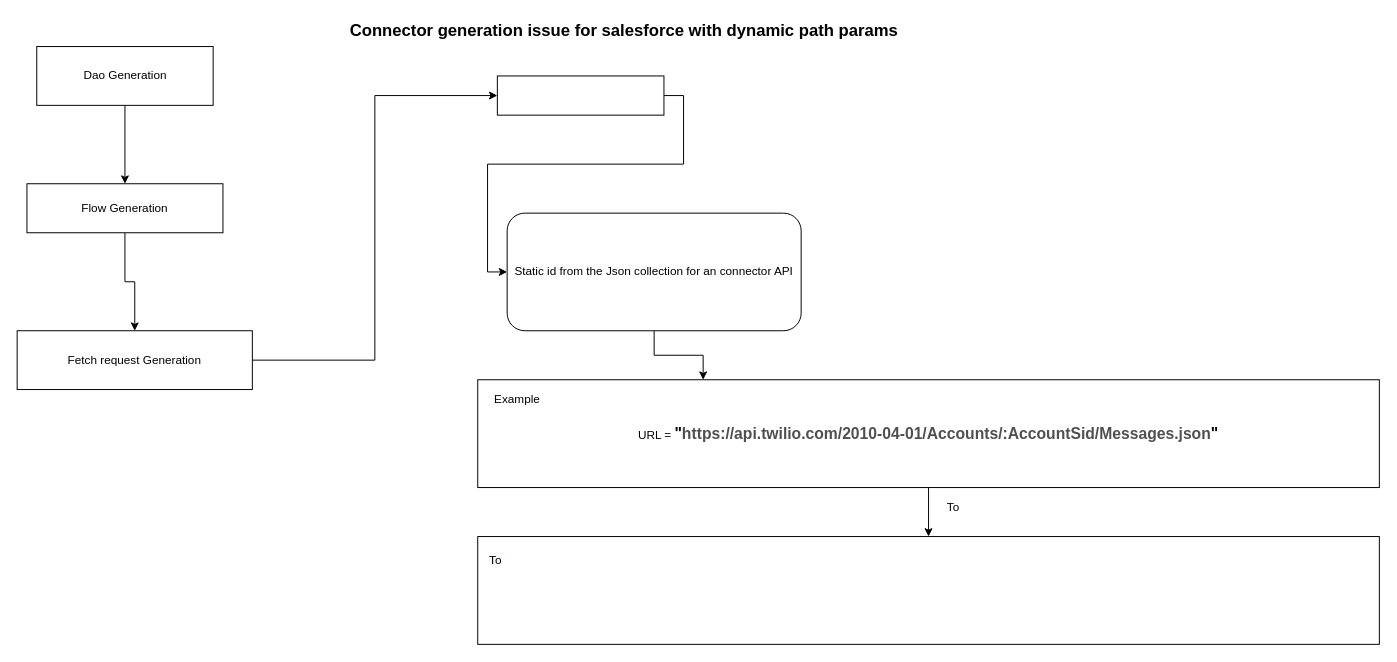
Some shapes in this 1397 by 662 pixel diagram are drawn without their labels. The box of each missing label's shape, as (x1, y1, x2, y2) in pixels:
fetch request URL: (496, 75, 664, 115)
URL = " https://api.twilio.com/2010-04-01/Accounts/${AccountSid}/Messages.json ": (477, 536, 1379, 644)
